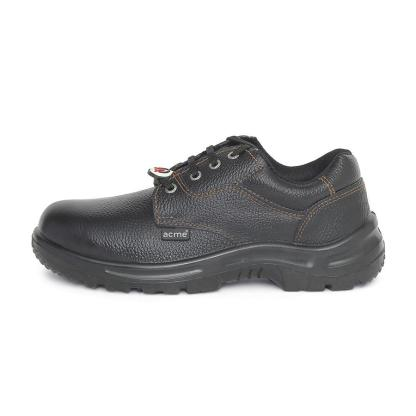bota: (26, 131, 390, 297)
